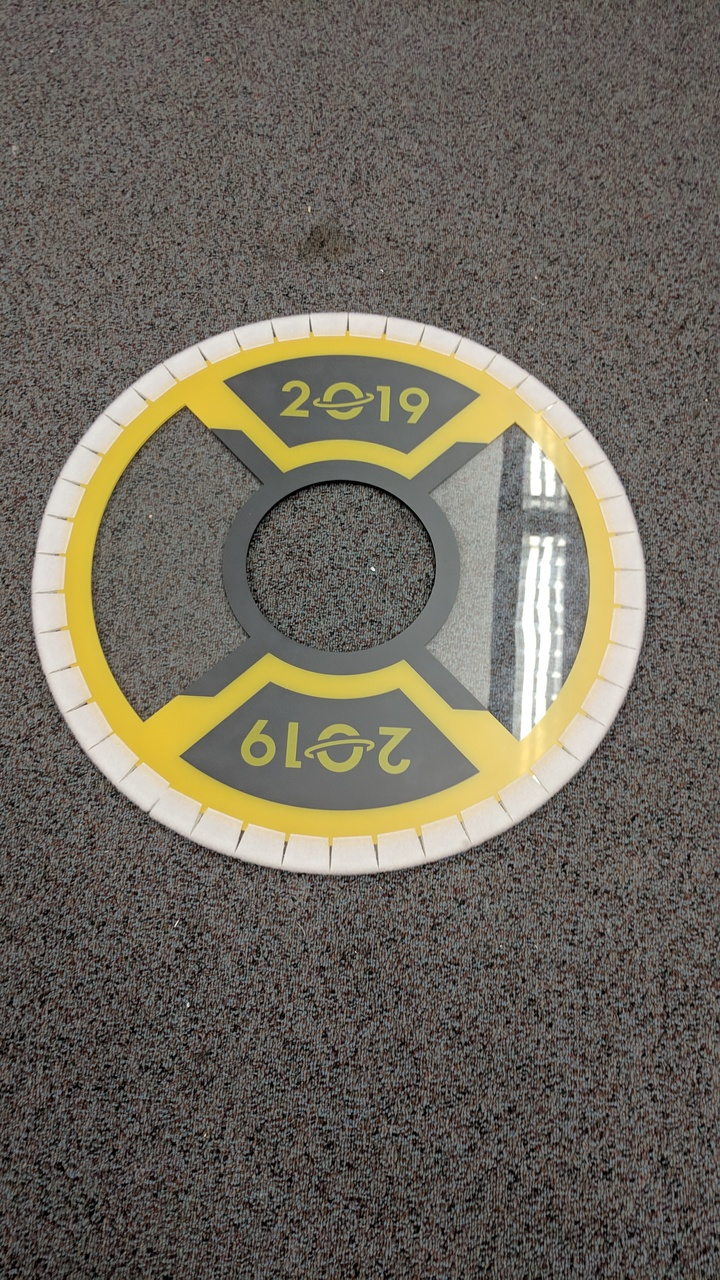hatch_panel: (30, 308, 654, 889)
